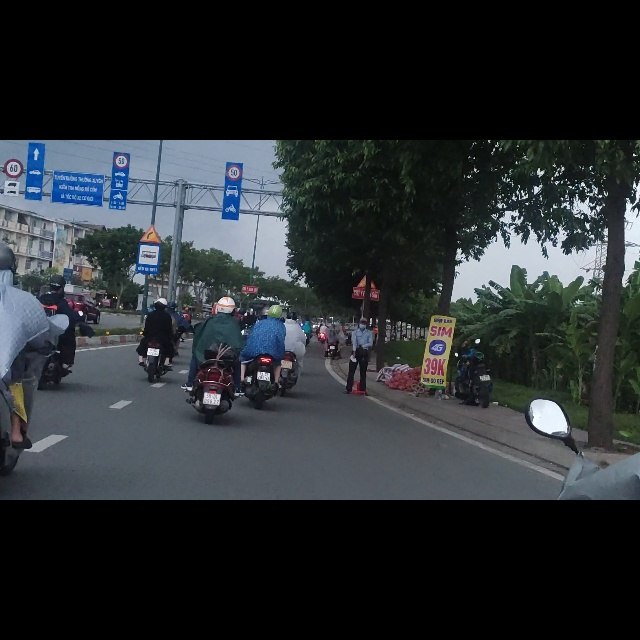bien_chi_dan: (137, 184, 160, 237), (139, 149, 161, 184), (4, 33, 24, 69), (3, 71, 19, 101), (226, 44, 241, 72), (114, 24, 128, 52)
